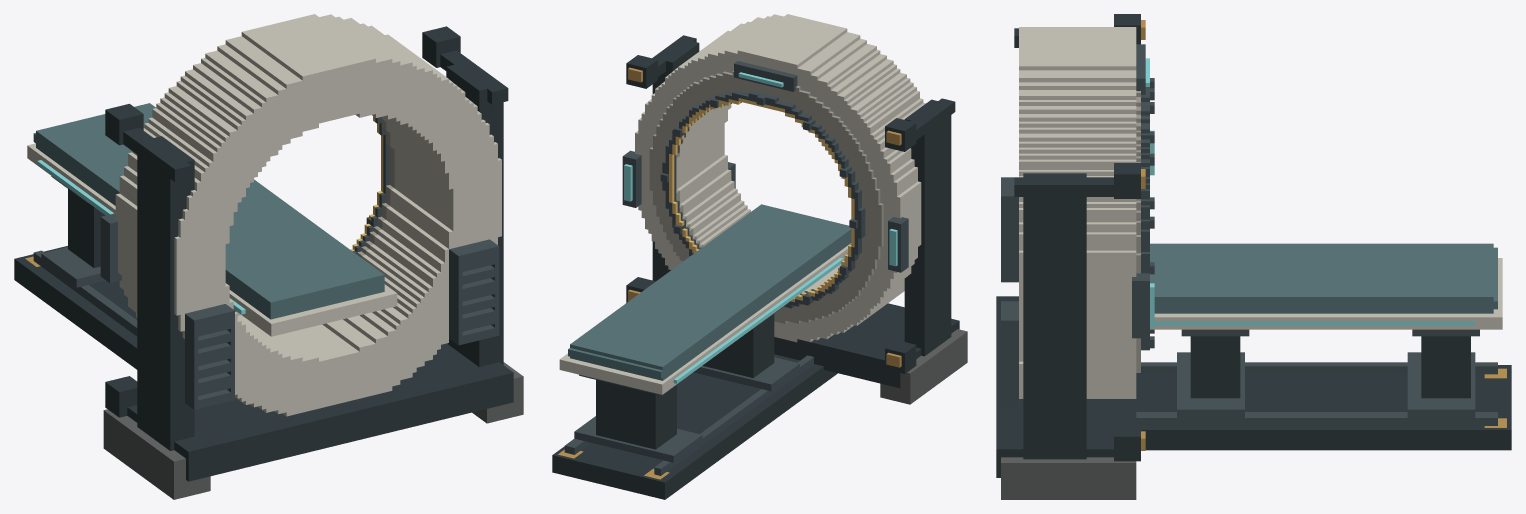
Rendered from LIFE-122.glb.
The picture shows the model from 3 angles, left to right: view 1: azimuth 30°, elevation 25°; view 2: azimuth 150°, elevation 25°; view 3: azimuth 270°, elevation 25°; orthographic projection. The views are drawn at different scales.
Parts seen in each view (by area): view 1: 检查设备/扫描舱; view 2: 检查设备/扫描舱; view 3: 检查设备/扫描舱.
Part boxes in pixels (x1,y1,x2,y2): 检查设备/扫描舱: (14, 14, 523, 499); 检查设备/扫描舱: (552, 14, 967, 499); 检查设备/扫描舱: (996, 14, 1511, 499).
Size of the model in its own units: 1.72 by 1.8 by 2.28.
9 materials, 9 textured.
